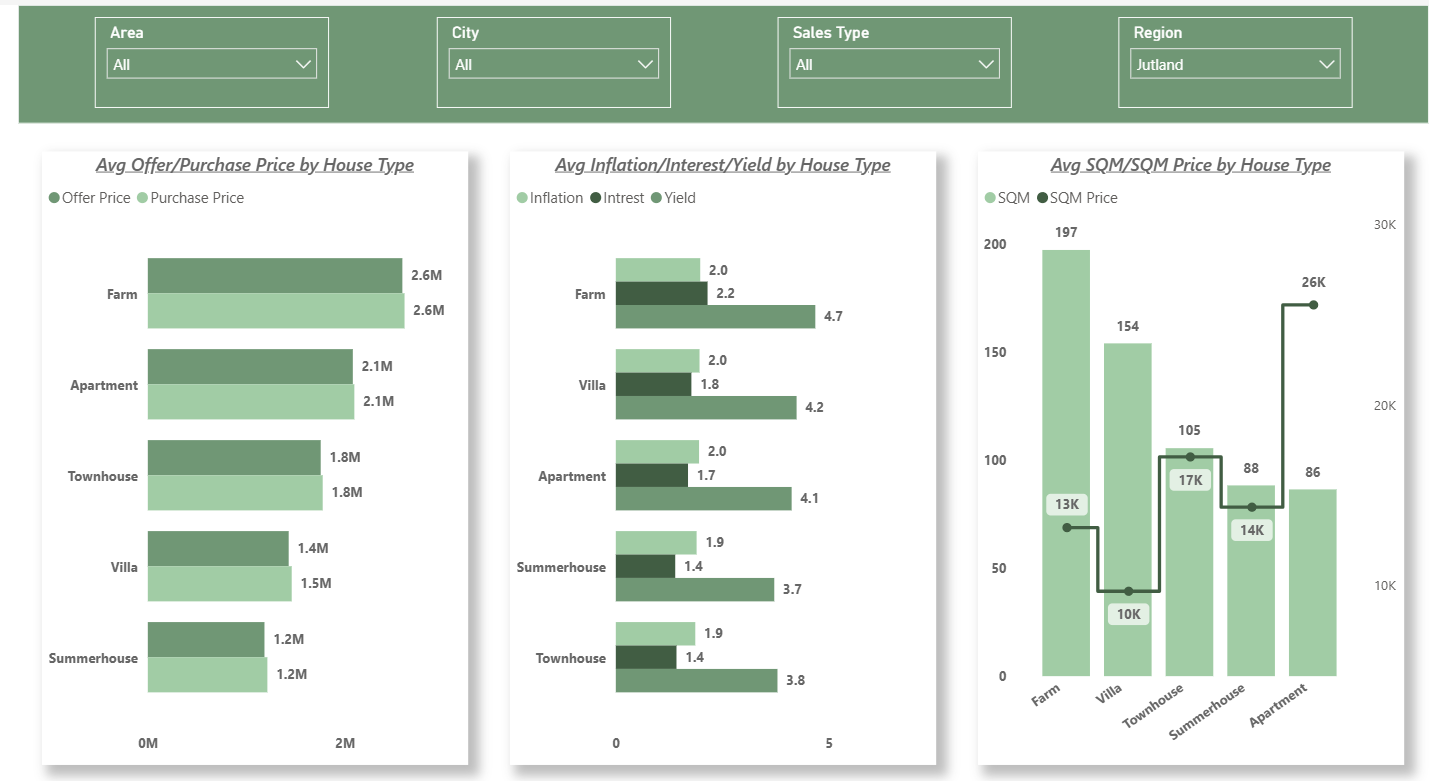

What the dashboard file says about the page in this screenshot:
{"tool":"powerbi","page":{"name":"House Type Analysis","canvas":[1280,720],"ordinal":2},"visuals":[{"type":"shape","box":[0,0,1280,107.5],"z":0},{"type":"slicer","fields":{"Values":["Housing.region"]},"box":[998.8,11.2,212.5,82.5],"z":1000},{"type":"slicer","fields":{"Values":["Housing.sales_type"]},"box":[689.2,11.2,212.5,82.5],"z":2000},{"type":"slicer","fields":{"Values":["Housing.area"]},"box":[70,11.2,212.5,82.5],"z":3000},{"type":"slicer","fields":{"Values":["Housing.city"]},"box":[379.6,11.2,212.5,82.5],"z":4000},{"type":"clusteredBarChart","title":"Avg Offer/Purchase Price by House Type","fields":{"Y":["Avg(Housing.Offer Price)","Avg(Housing.purchase_price)"],"Category":["Housing.house_type"]},"box":[21.2,132.5,386.2,556.2],"z":5000},{"type":"clusteredBarChart","title":"Avg Inflation/Interest/Yield by House Type","fields":{"Category":["Housing.house_type"],"Y":["Avg(Housing.dk_ann_infl_rate%)","Avg(Housing.nom_interest_rate%)","Avg(Housing.yield_on_mortgage_credit_bonds%)"]},"box":[446.2,132.5,386.2,556.2],"z":6000},{"type":"lineStackedColumnComboChart","title":"Avg SQM/SQM Price by House Type","fields":{"Y2":["Avg(Housing.sqm_price)"],"Y":["Avg(Housing.sqm)"],"Category":["Housing.house_type"]},"box":[871.2,132.5,386.2,556.2],"z":7000}]}

Visuals, with their boxes in screenshot pixels (x1, y1, x2, y2), scaled from the page's 1280x720 canvas onto the 1429x781 screenshot:
shape: (0,0,1428,117)
slicer - Housing.region: (1115,12,1352,102)
slicer - Housing.sales_type: (769,12,1007,102)
slicer - Housing.area: (78,12,315,102)
slicer - Housing.city: (424,12,661,102)
"Avg Offer/Purchase Price by House Type" clusteredBarChart: (24,144,455,747)
"Avg Inflation/Interest/Yield by House Type" clusteredBarChart: (498,144,929,747)
"Avg SQM/SQM Price by House Type" lineStackedColumnComboChart: (973,144,1404,747)
